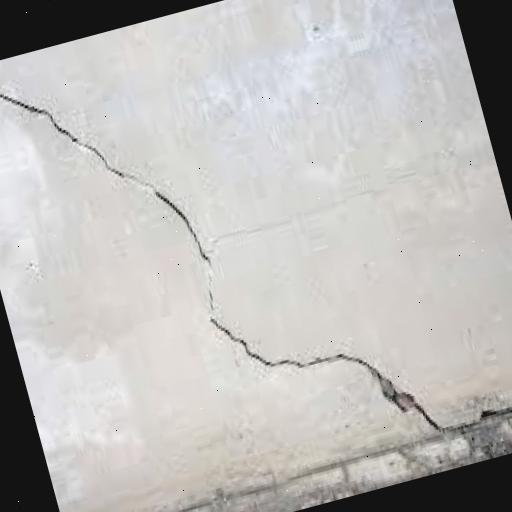spalling: (0, 80, 443, 428)
